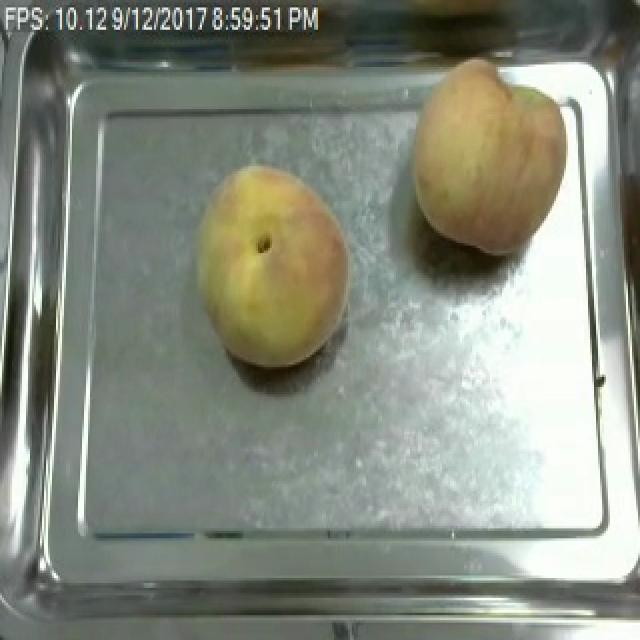Fruit: (186, 156, 360, 375), (398, 57, 582, 261)
